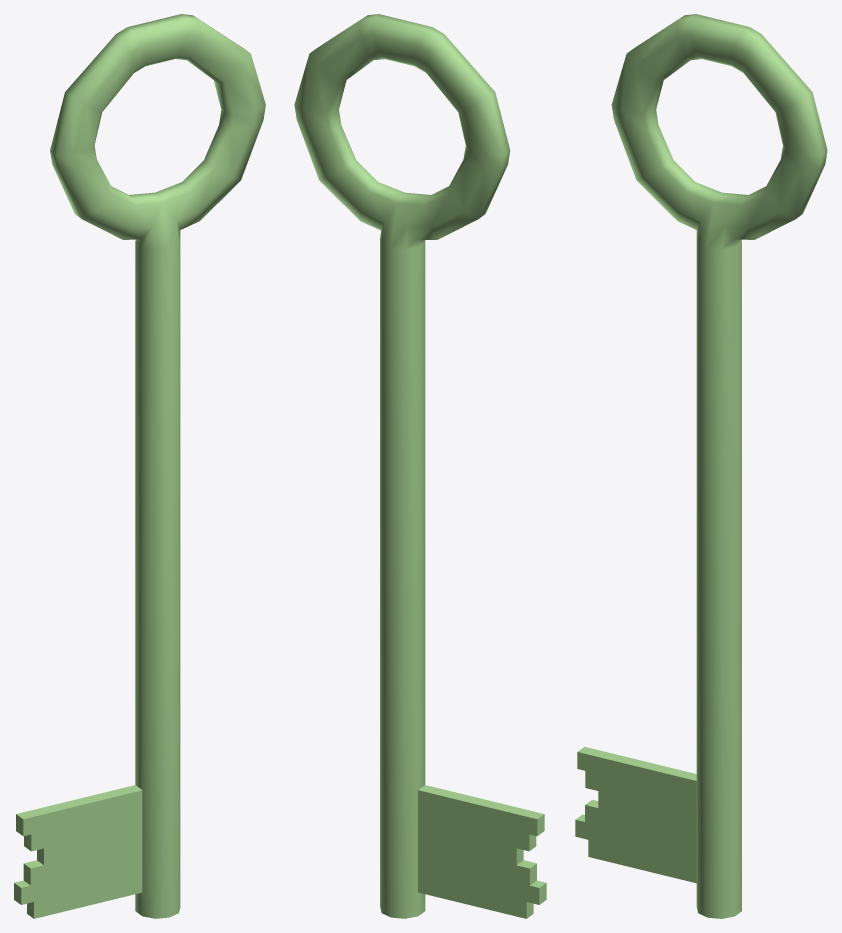
Rendered from Keys_13.FBX.
3 views of the same model, side by side, from view 1: azimuth 30°, elevation 25°; view 2: azimuth 150°, elevation 25°; view 3: azimuth 330°, elevation 25° (orthographic).
Visible parts, largest first — view 1: Keys_13; view 2: Keys_13; view 3: Keys_13.
Part boxes in pixels (x1,y1,x2,y2): Keys_13: (14, 14, 265, 918); Keys_13: (294, 14, 546, 918); Keys_13: (575, 14, 827, 918).
Bounding box in the file's own units: 1.38 × 4.77 × 0.2251.
